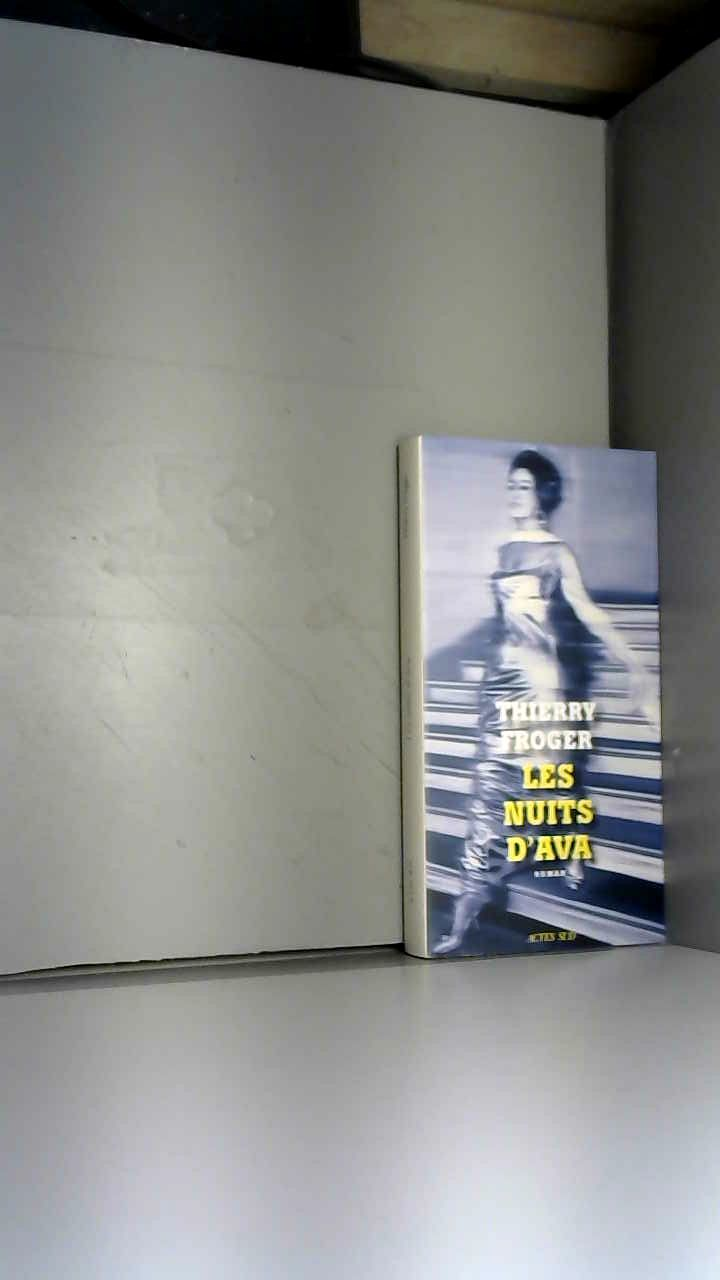book: (360, 397, 699, 995)
